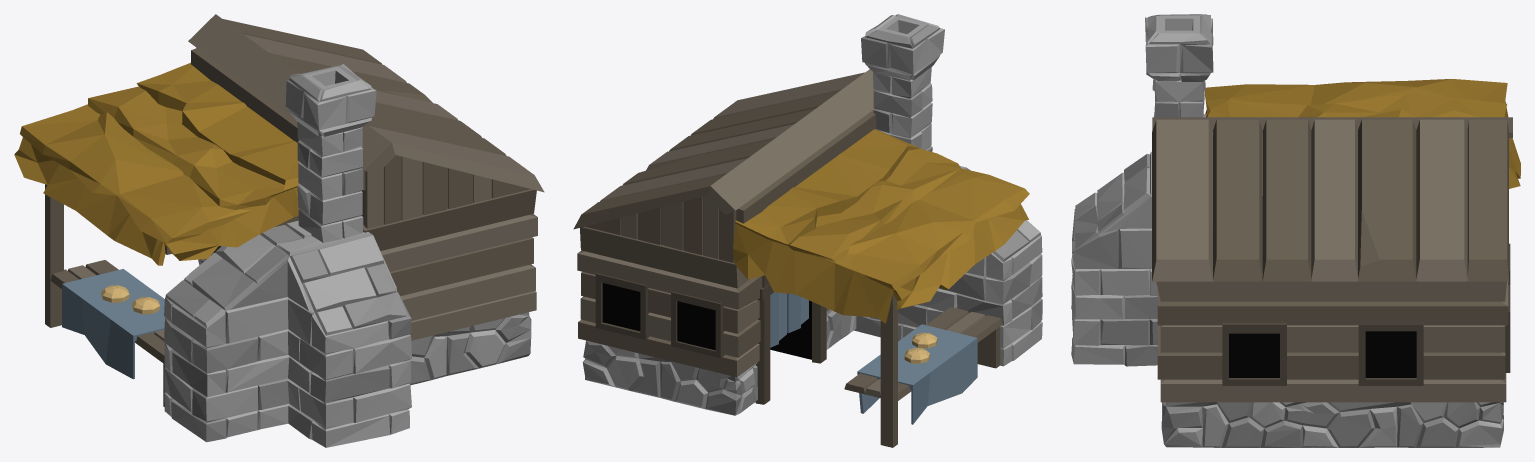
File: Bakery.glb
3 renders of one model, left to right at view 1: azimuth 30°, elevation 25°; view 2: azimuth 150°, elevation 25°; view 3: azimuth 270°, elevation 25°, orthographic. The views are drawn at different scales.
Visible parts, largest first — view 1: bakery; view 2: bakery; view 3: bakery.
Part boxes in pixels (left/top/right/bottom): bakery: left=14, top=14, right=544, bottom=447; bakery: left=573, top=14, right=1042, bottom=447; bakery: left=1071, top=14, right=1520, bottom=447.
Size of the model in its own units: 6.75 by 5.62 by 6.93.
Materials: 1 (1 with a texture image).
